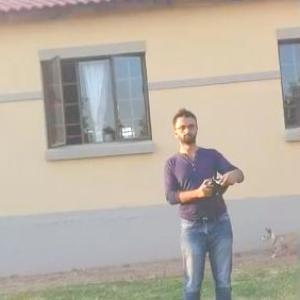follow: (159, 98, 251, 299)
null: (251, 216, 299, 261)
